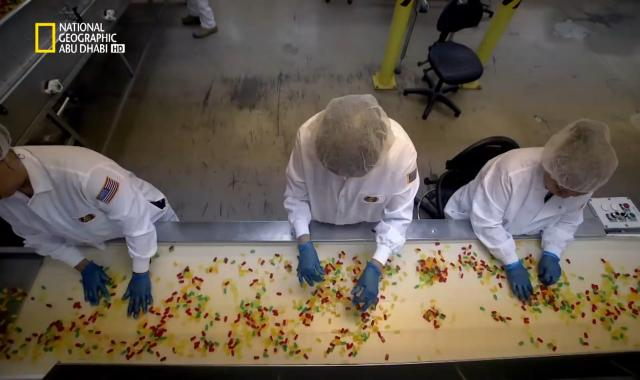hairnet: (313, 91, 393, 174), (546, 114, 618, 195)
